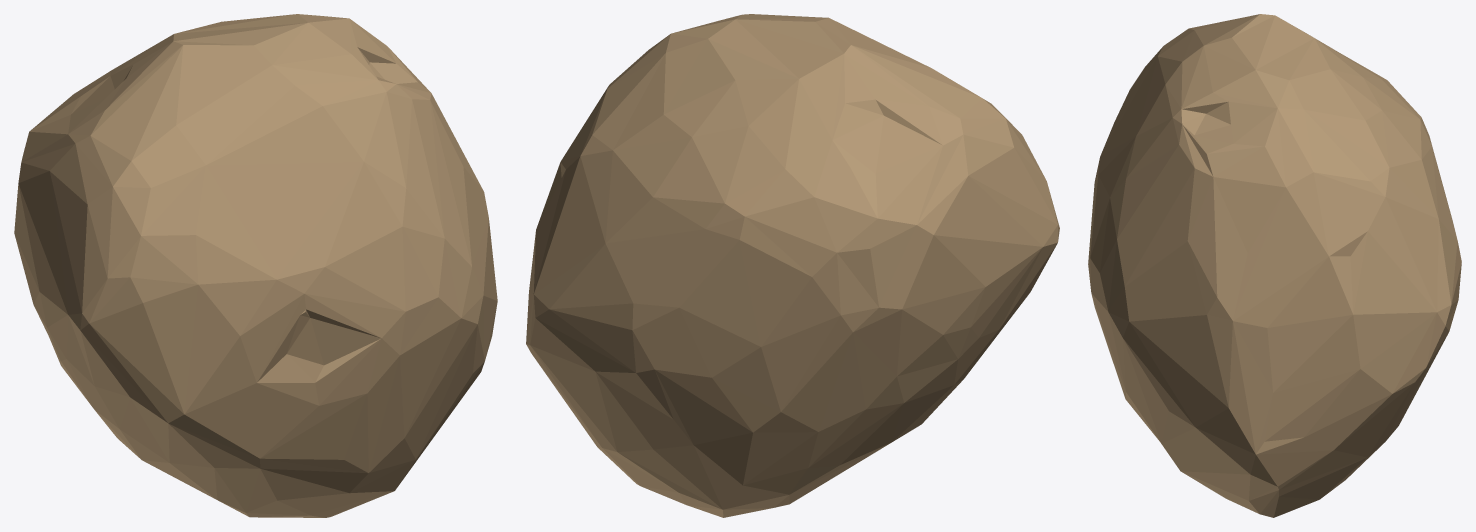
The model's file is astroid 2 fin.fbx.
3 views of the same model, side by side, from view 1: azimuth 30°, elevation 25°; view 2: azimuth 150°, elevation 25°; view 3: azimuth 270°, elevation 25° (orthographic). The views are drawn at different scales.
Visible parts, largest first — view 1: astroid_2_deci:Group43672; view 2: astroid_2_deci:Group43672; view 3: astroid_2_deci:Group43672.
Part boxes in pixels (x1,y1,x2,y2): astroid_2_deci:Group43672: (14,14,497,517); astroid_2_deci:Group43672: (526,14,1059,517); astroid_2_deci:Group43672: (1088,14,1461,517).
Size of the model in its own units: 19.13 by 19.74 by 15.53.
